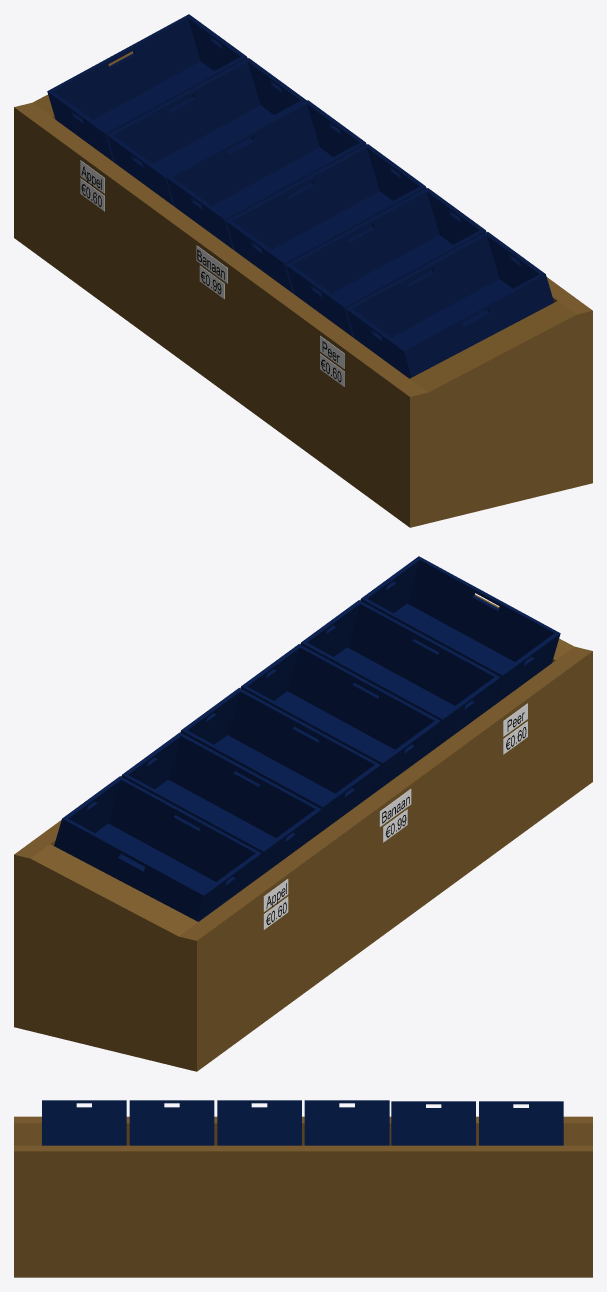
Rendered from fruit.obj.
The picture shows the model from 3 angles, top to bottom: view 1: azimuth 30°, elevation 25°; view 2: azimuth 150°, elevation 25°; view 3: azimuth 270°, elevation 25°; orthographic projection. The views are drawn at different scales.
Parts seen in each view (by area): view 1: Cube_Cube.001, Cube.007_Cube.011, Cube.004_Cube.008, Cube.006_Cube.010, Cube.005_Cube.009, Cube.002_Cube.006, Cube.003_Cube.007; view 2: Cube_Cube.001, Cube.002_Cube.006, Cube.004_Cube.008, Cube.007_Cube.011, Cube.006_Cube.010, Cube.005_Cube.009, Cube.003_Cube.007; view 3: Cube_Cube.001, Cube.006_Cube.010, Cube.004_Cube.008, Cube.005_Cube.009, Cube.007_Cube.011, Cube.002_Cube.006, Cube.003_Cube.007.
Part boxes in pixels (box(x1,y1,x2,y2)): Cube_Cube.001: box(14, 51, 592, 527); Cube.007_Cube.011: box(346, 232, 553, 378); Cube.004_Cube.008: box(166, 100, 366, 250); Cube.006_Cube.010: box(286, 188, 486, 338); Cube.005_Cube.009: box(226, 144, 426, 294); Cube.002_Cube.006: box(47, 14, 247, 162); Cube.003_Cube.007: box(107, 58, 306, 206); Cube_Cube.001: box(14, 594, 592, 1071); Cube.002_Cube.006: box(54, 776, 261, 921); Cube.004_Cube.008: box(180, 688, 380, 837); Cube.007_Cube.011: box(360, 556, 560, 706); Cube.006_Cube.010: box(300, 600, 500, 750); Cube.005_Cube.009: box(240, 644, 440, 794); Cube.003_Cube.007: box(121, 732, 321, 881); Cube_Cube.001: box(14, 1116, 592, 1277); Cube.006_Cube.010: box(129, 1100, 214, 1145); Cube.004_Cube.008: box(304, 1100, 389, 1145); Cube.005_Cube.009: box(217, 1100, 301, 1145); Cube.007_Cube.011: box(42, 1100, 126, 1145); Cube.002_Cube.006: box(479, 1101, 563, 1145); Cube.003_Cube.007: box(391, 1101, 475, 1145).
Bounding box in the file's own units: 1.61 × 1.69 × 6.
